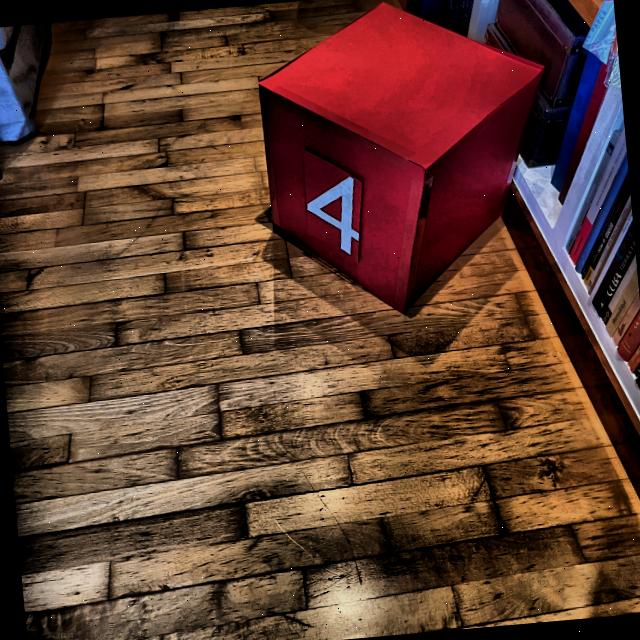four: (303, 173, 367, 260)
red box: (253, 0, 555, 326)
